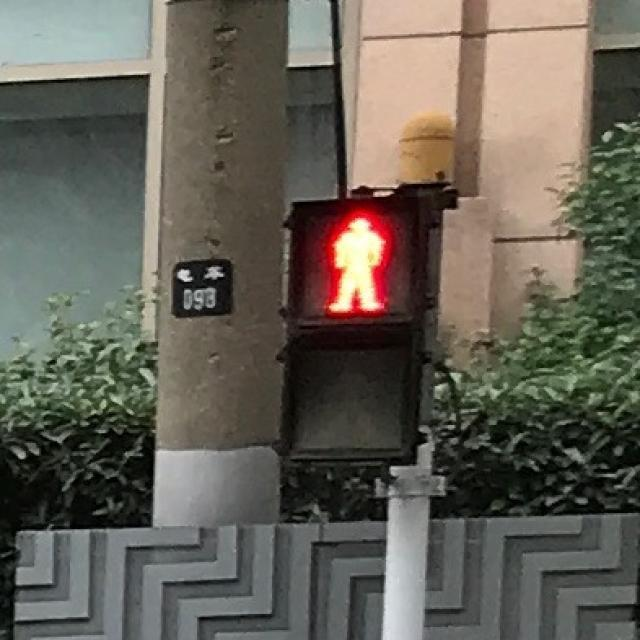red-crossing: (296, 200, 412, 322)
